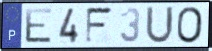3: (118, 6, 141, 45)
4: (57, 7, 80, 45)
E: (24, 7, 54, 45)
F: (84, 5, 115, 46)
O: (176, 5, 205, 45)
U: (144, 5, 176, 46)
